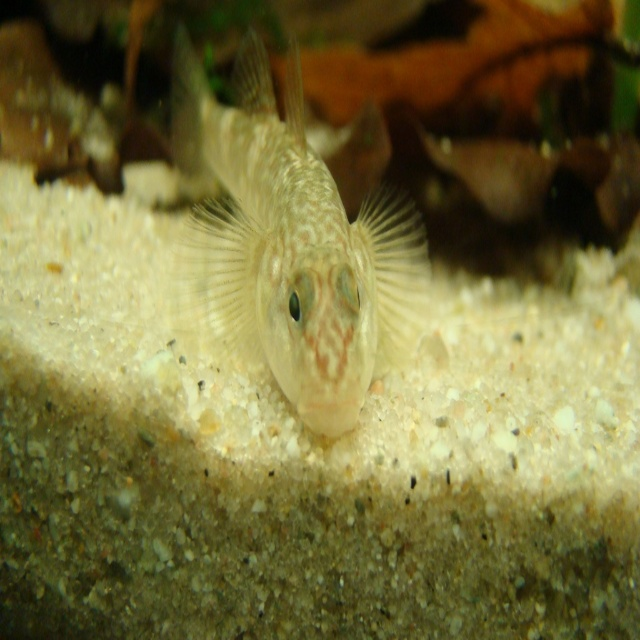Fish: (177, 46, 435, 450)
